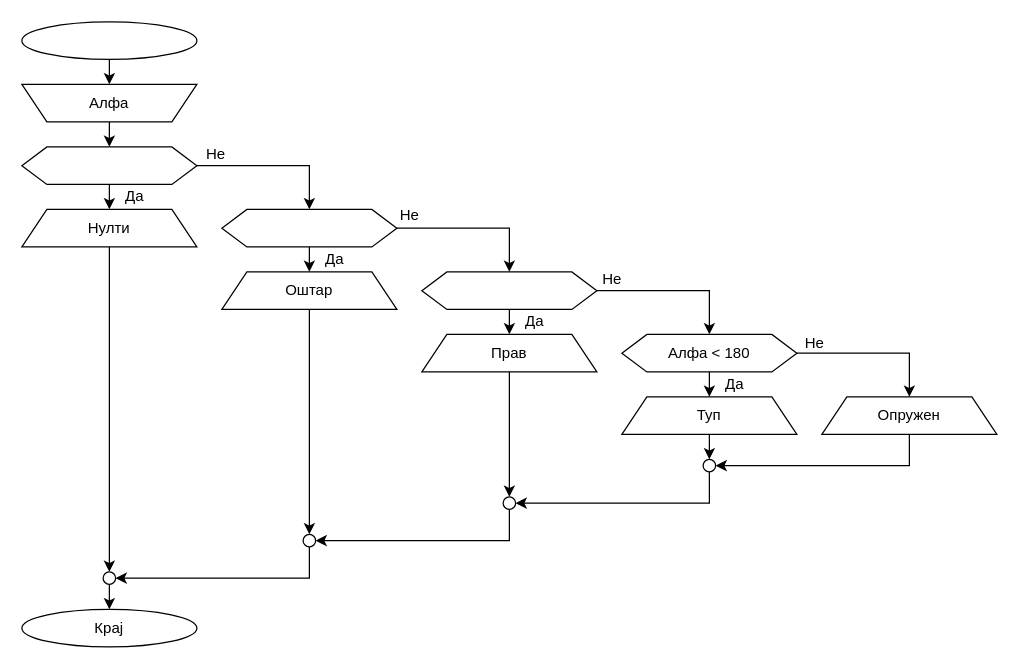
Image size: 1019x669. Some labels were removed from this diagram. Here are the shapes that lost their labels. From the top down, the centre of each, then its label:
At point (109, 40): "Почетак".
At point (109, 165): "Алфа = 0".
At point (309, 227): "Алфа < 90".
At point (509, 290): "Алфа = 90".
